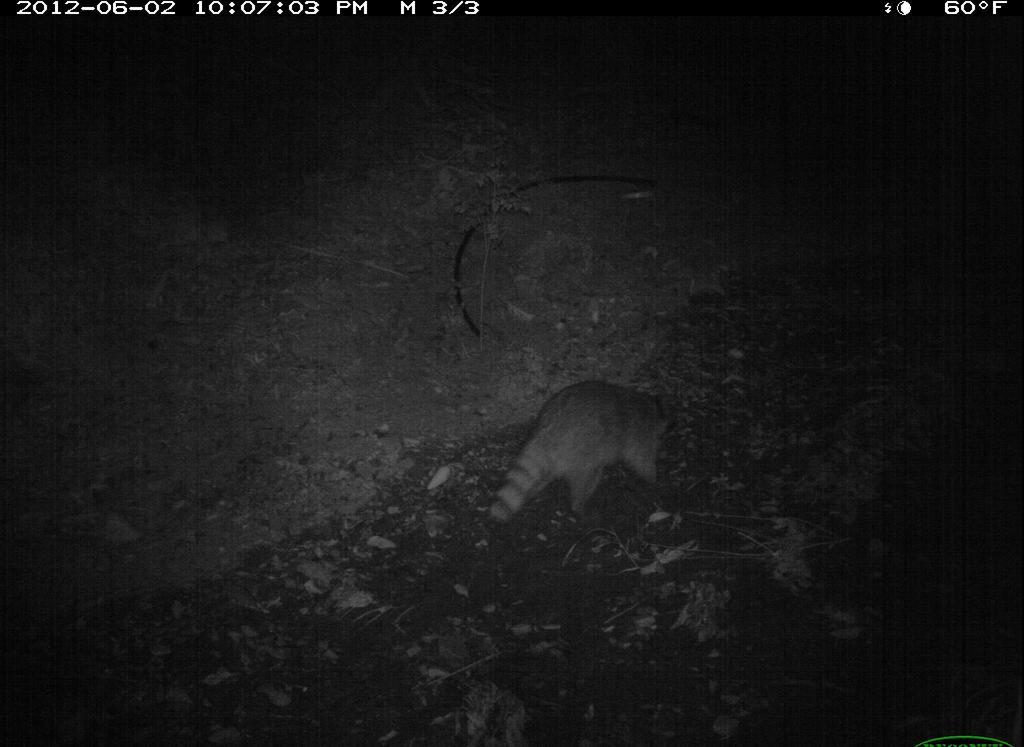raccoon: (491, 376, 674, 536)
